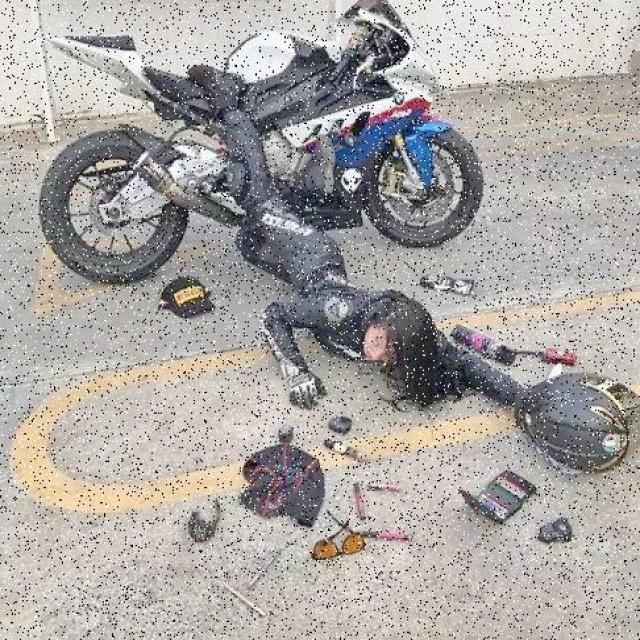fall: (210, 97, 470, 416)
